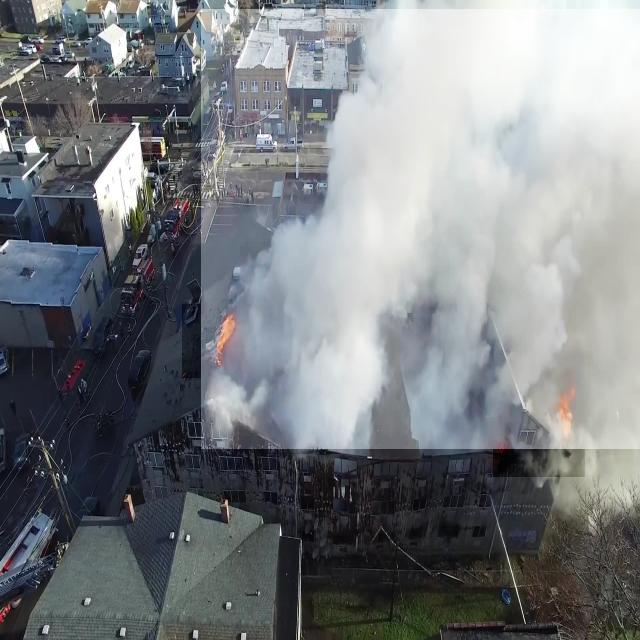Fire: (494, 375, 586, 477), (182, 304, 271, 378)
Smoke: (201, 9, 640, 449)
